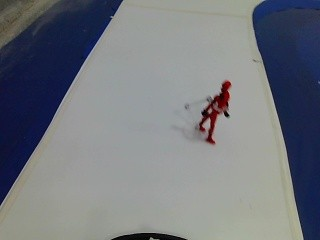pedestrian: (196, 74, 242, 145)
